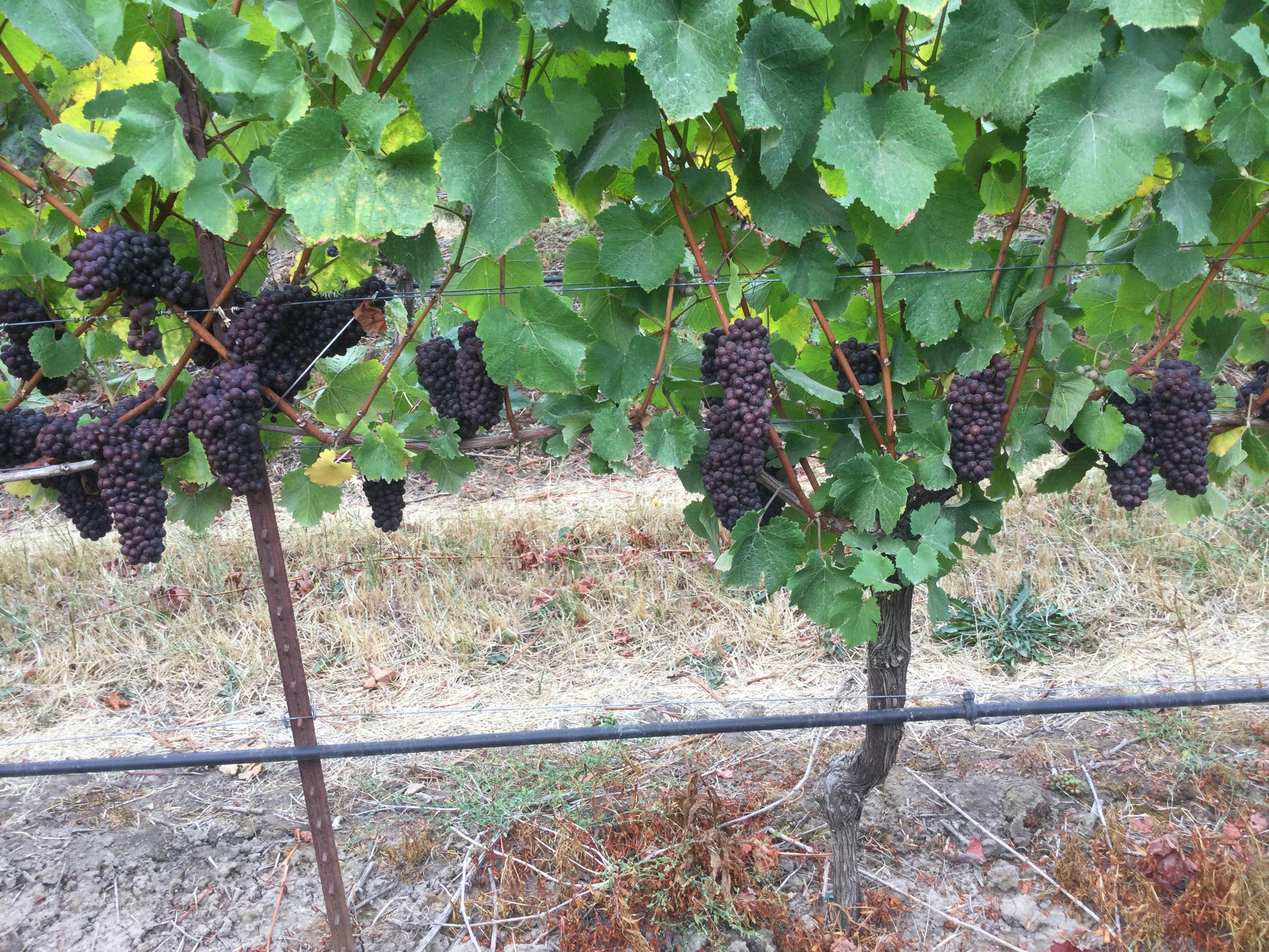leaf: (1027, 53, 1180, 219), (271, 97, 436, 242), (926, 0, 1102, 128), (815, 87, 958, 227), (440, 110, 558, 256), (735, 11, 831, 185), (607, 0, 739, 122), (406, 7, 518, 142), (864, 169, 983, 272), (479, 287, 592, 392), (565, 64, 659, 187), (737, 157, 848, 243), (113, 81, 194, 190), (563, 235, 637, 350), (595, 203, 684, 290), (886, 268, 989, 343), (0, 0, 113, 68), (178, 8, 269, 92), (722, 511, 805, 591), (831, 453, 914, 532), (825, 7, 895, 97), (521, 76, 602, 151), (788, 550, 859, 627), (897, 399, 954, 490), (1208, 150, 1263, 242), (1133, 221, 1206, 290), (586, 335, 659, 401), (1211, 80, 1268, 164), (1157, 61, 1225, 130), (1158, 161, 1215, 242), (82, 155, 144, 226), (315, 360, 382, 425), (184, 156, 237, 238), (379, 223, 444, 288), (253, 49, 309, 122), (1183, 314, 1243, 379), (778, 234, 837, 299), (1149, 477, 1227, 526), (339, 94, 399, 154), (278, 469, 341, 526), (353, 423, 415, 480), (40, 122, 114, 168), (166, 482, 232, 532), (451, 255, 502, 319), (1007, 405, 1052, 472), (642, 413, 696, 468), (1045, 372, 1095, 430), (1106, 0, 1202, 30), (0, 239, 70, 280), (28, 326, 83, 378), (1036, 447, 1098, 493), (295, 0, 341, 60), (956, 317, 1003, 374), (505, 242, 543, 312), (164, 434, 216, 485), (1073, 402, 1125, 451), (909, 502, 955, 557), (591, 404, 634, 462), (524, 0, 607, 30), (838, 590, 880, 646), (683, 497, 720, 560), (421, 451, 474, 494), (850, 550, 900, 591), (1230, 23, 1268, 76), (302, 448, 355, 486), (679, 167, 731, 205), (249, 154, 284, 207), (894, 542, 939, 583), (1106, 424, 1144, 465), (632, 166, 671, 205), (82, 89, 127, 120), (1248, 222, 1268, 241), (1248, 159, 1268, 177), (1239, 260, 1268, 272), (440, 321, 453, 331), (318, 361, 324, 368), (113, 6, 117, 14), (1174, 162, 1179, 168), (458, 318, 465, 322), (8, 232, 13, 236), (385, 97, 391, 100), (319, 52, 323, 55), (119, 23, 121, 29), (115, 30, 117, 35), (362, 123, 364, 128), (343, 50, 346, 51), (552, 205, 553, 206), (394, 106, 395, 107), (535, 253, 535, 257), (323, 371, 324, 371), (499, 14, 501, 14)
